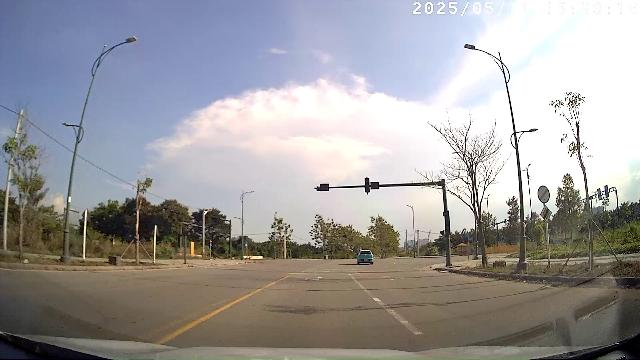135-het-tat-ca-cac-lenh-cam: (537, 185, 550, 204)
